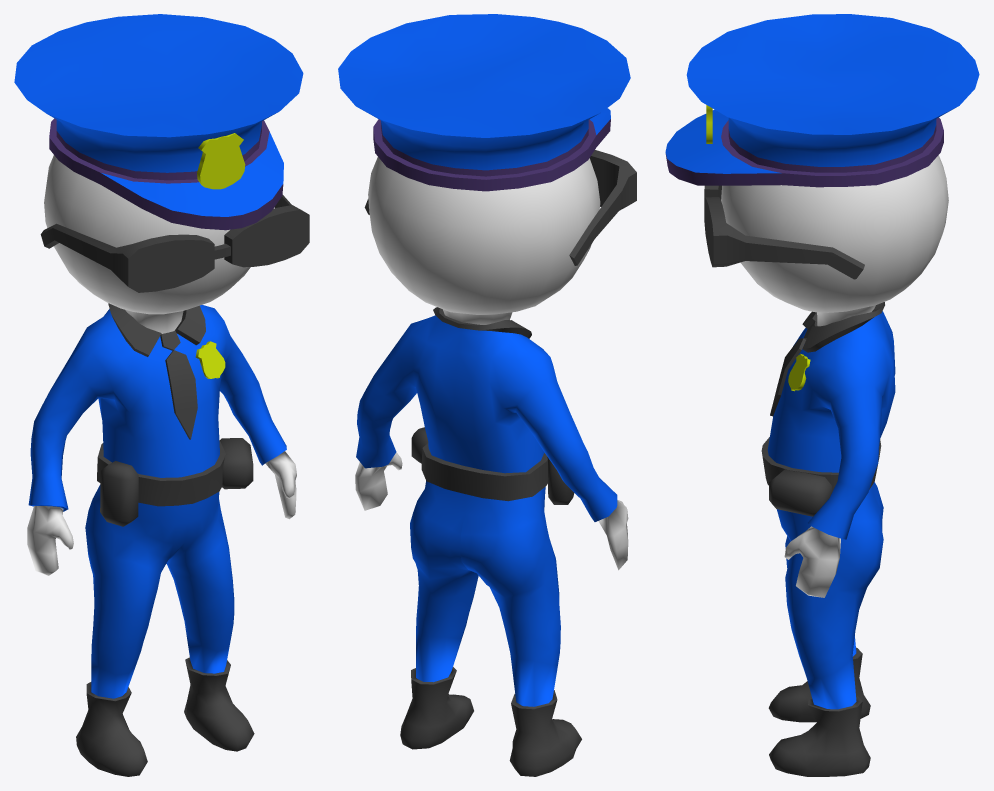
File: police_A_pose.fbx
The picture shows the model from 3 angles, left to right: view 1: azimuth 30°, elevation 25°; view 2: azimuth 150°, elevation 25°; view 3: azimuth 270°, elevation 25°; orthographic projection.
Parts seen in each view (by area): view 1: police_A_pose; view 2: police_A_pose; view 3: police_A_pose.
Part boxes in pixels (<box>): police_A_pose: <box>14,14,309,776</box>; police_A_pose: <box>338,14,636,776</box>; police_A_pose: <box>665,14,979,776</box>.
Bounding box in the file's own units: 78.34 × 191 × 81.69.
